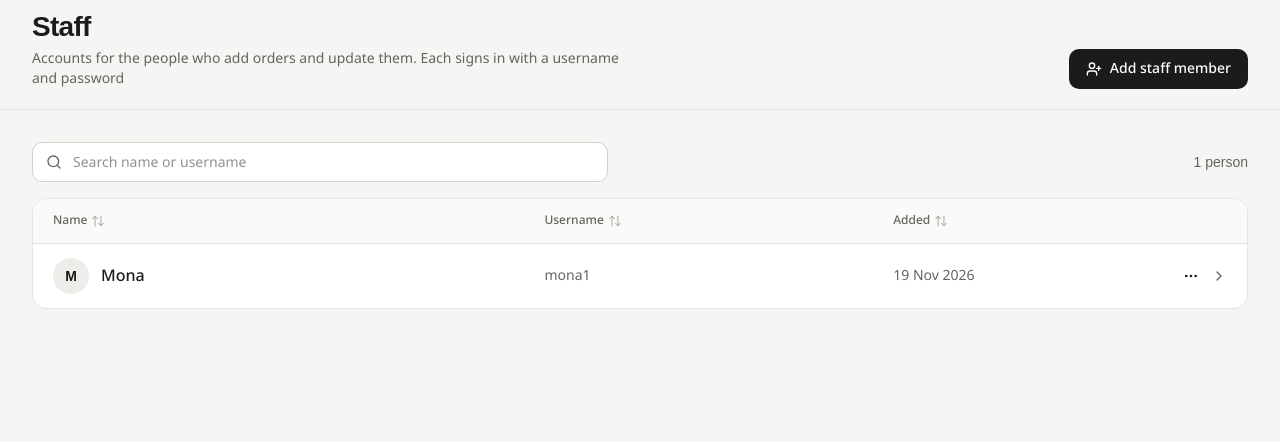
Test case: StaffManager › removes a staff member
Click the button named "Actions: mona1".
click(1191, 276)  # box [1175, 260, 1207, 292]
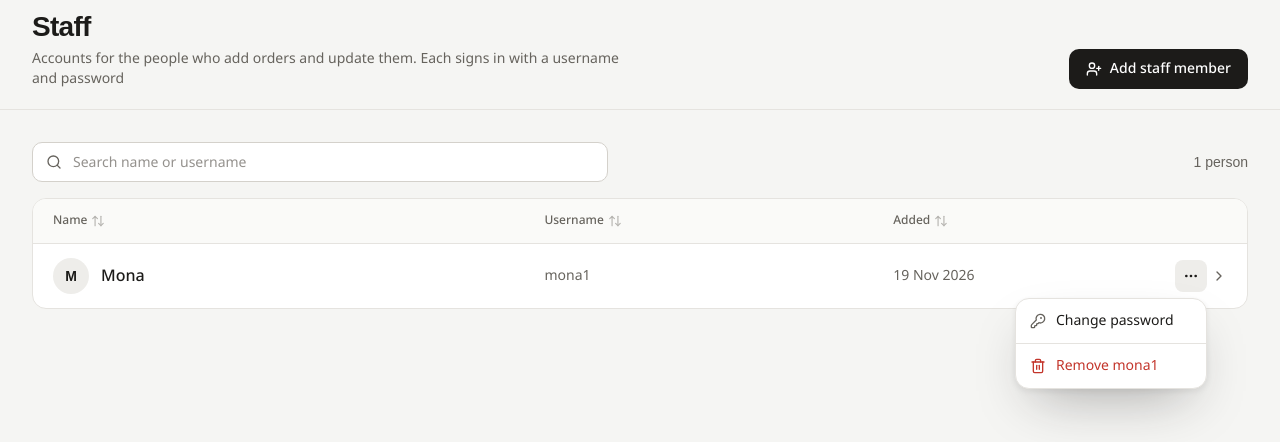
Click the menu item "Remove mona1".
click(1094, 366)  # box [1030, 351, 1159, 380]
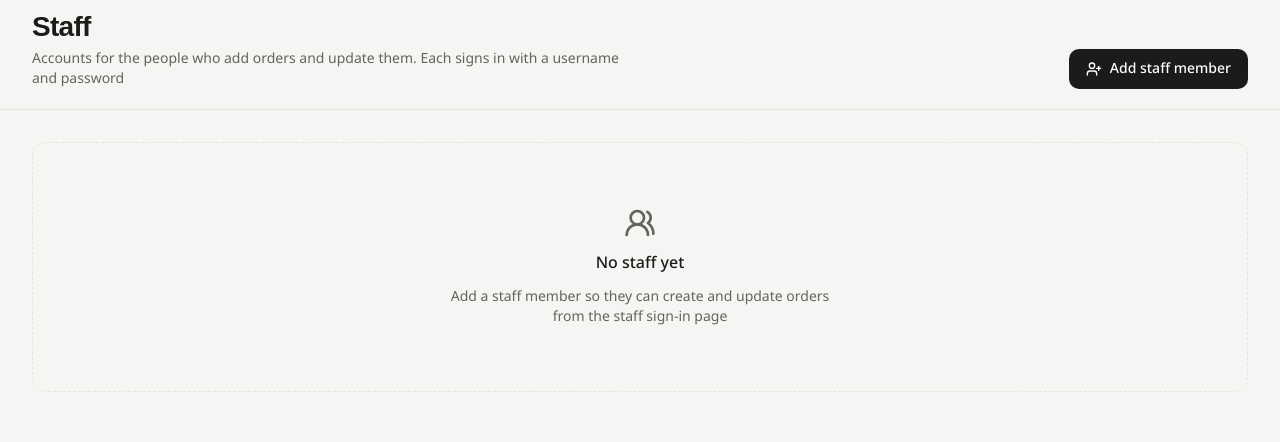
Now the text "mona1" is not shown
